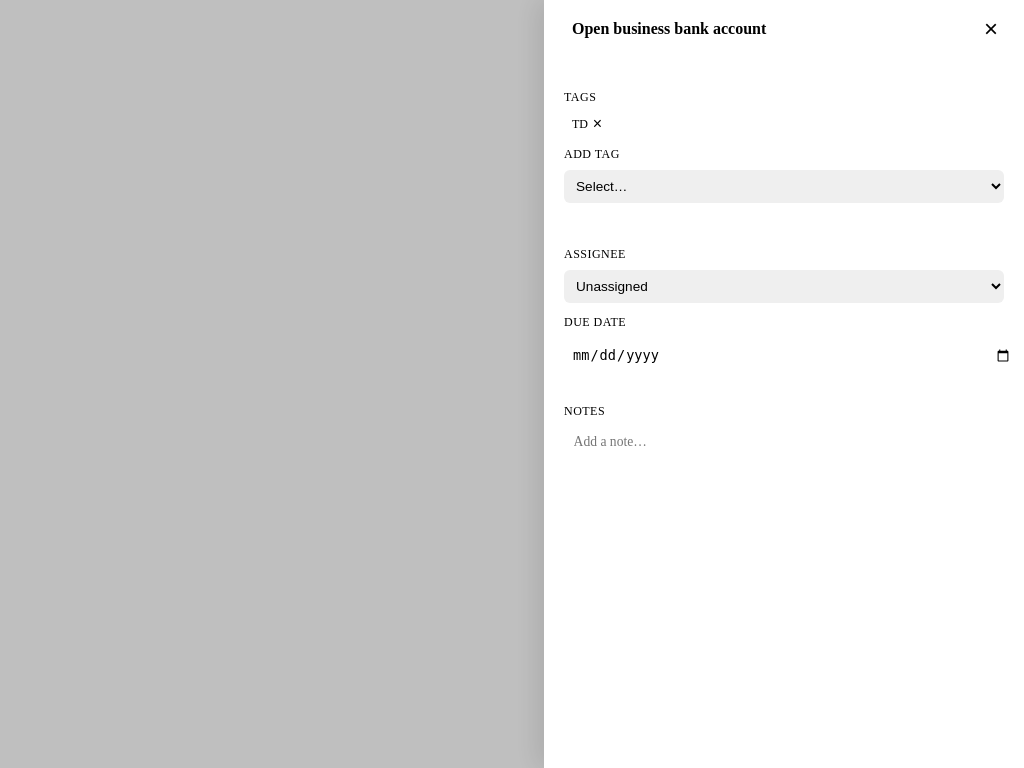
Scenario: RegulatoryDetailPanel › reverts the body draft when the Cancel button is clicked
The width and height of the screenshot is (1024, 768).
Replace the text in the field named "task body" with "throwaway typo" at point(765, 29), box [564,16,966,42]
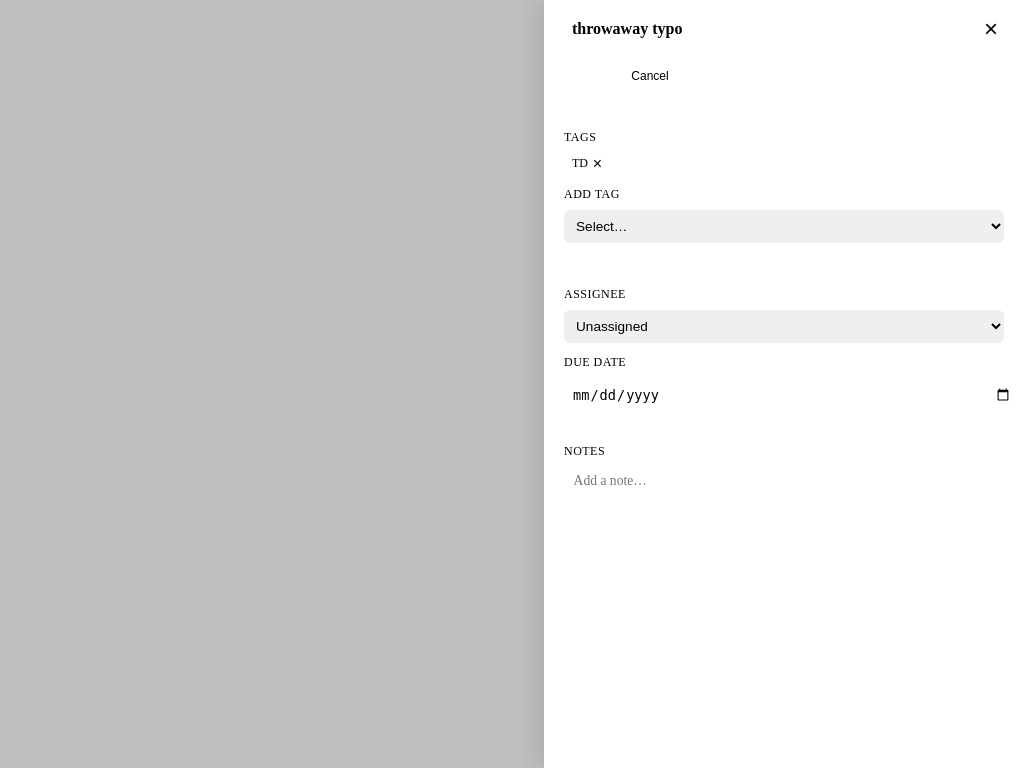
Click the button with aria-label "cancel body edit".
click(650, 76)  # box [620,64,680,88]
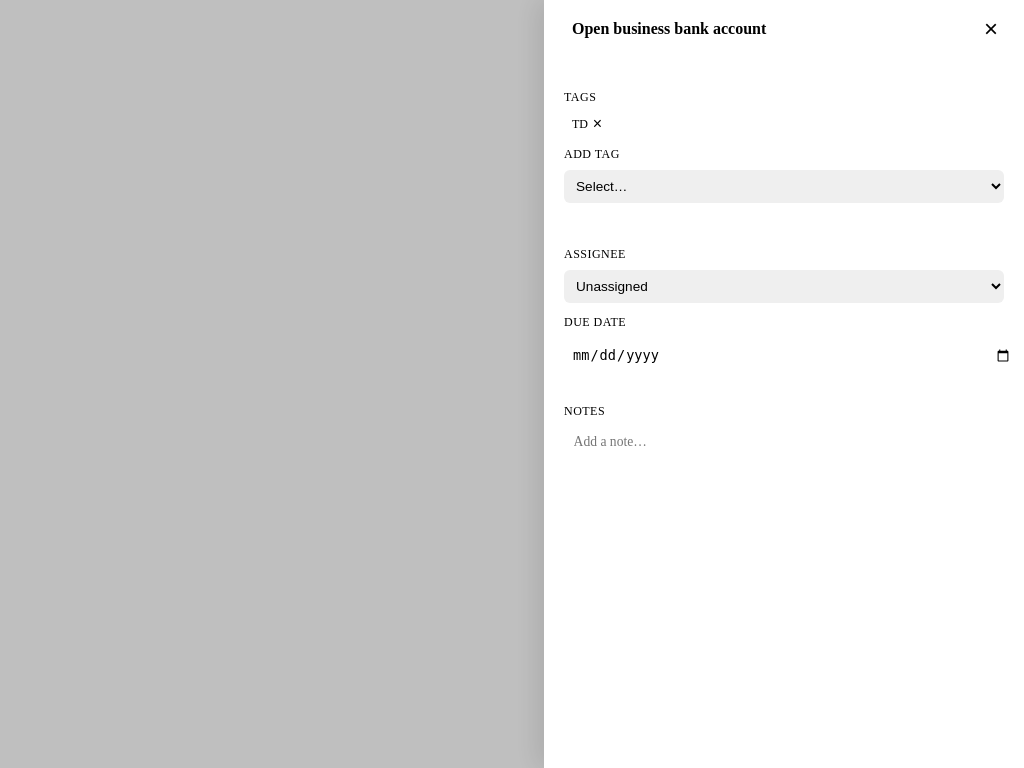
Result: the field named "task body" holds "Open business bank account" at [564,16,966,42]
